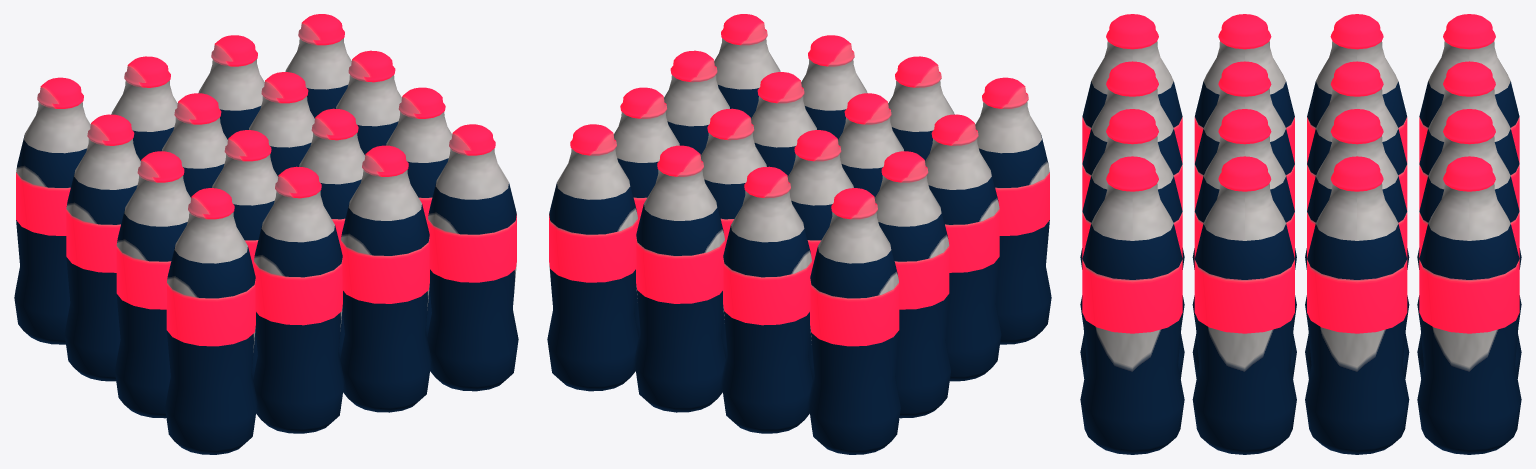
The model's file is Coke.fbx.
3 renders of one model, left to right at view 1: azimuth 30°, elevation 25°; view 2: azimuth 150°, elevation 25°; view 3: azimuth 270°, elevation 25°, orthographic. The views are drawn at different scales.
Parts seen in each view (by area): view 1: Coke12; view 2: Coke12; view 3: Coke12.
Boxes of the visible parts, x1=… form: Coke12: x1=14, y1=14, x2=518, y2=454; Coke12: x1=547, y1=14, x2=1051, y2=454; Coke12: x1=1080, y1=14, x2=1521, y2=454.
Size of the model in its own units: 39.28 by 27.21 by 39.28.
